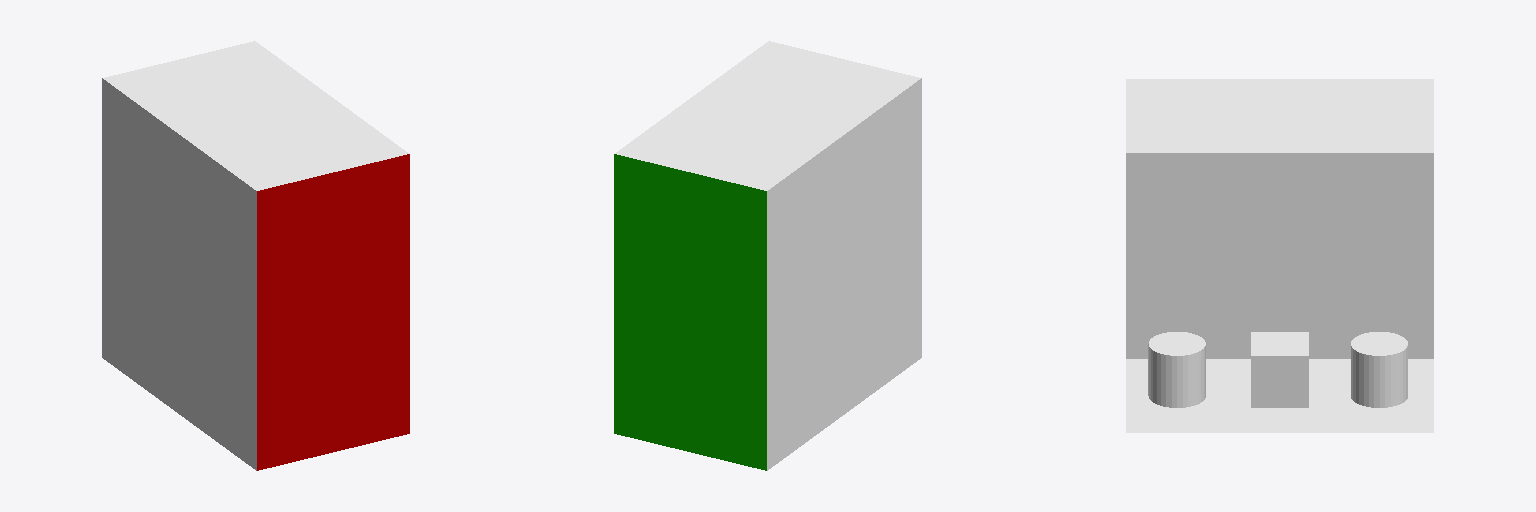
3 views of the same model, side by side, from view 1: azimuth 30°, elevation 25°; view 2: azimuth 150°, elevation 25°; view 3: azimuth 270°, elevation 25° (orthographic).
Visible parts, largest first — view 1: Back, Left, Roof; view 2: Back, Right, Roof; view 3: Back, Roof, Floor, Cube, LCylinder, RCylinder.
Part boxes in pixels (bbox=[...]): Back: bbox=[102, 78, 256, 470]; Left: bbox=[257, 154, 409, 470]; Roof: bbox=[103, 41, 408, 190]; Back: bbox=[767, 78, 921, 470]; Right: bbox=[614, 154, 766, 470]; Roof: bbox=[615, 41, 920, 190]; Back: bbox=[1126, 153, 1433, 358]; Roof: bbox=[1126, 79, 1433, 152]; Floor: bbox=[1126, 359, 1433, 432]; Cube: bbox=[1251, 332, 1308, 407]; LCylinder: bbox=[1148, 332, 1205, 407]; RCylinder: bbox=[1351, 332, 1407, 407].
Bounding box in the file's own units: 2 × 3.5 × 3.5.